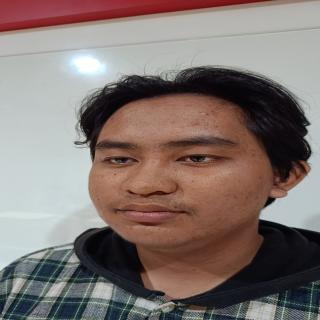Netral: (84, 91, 277, 253)
